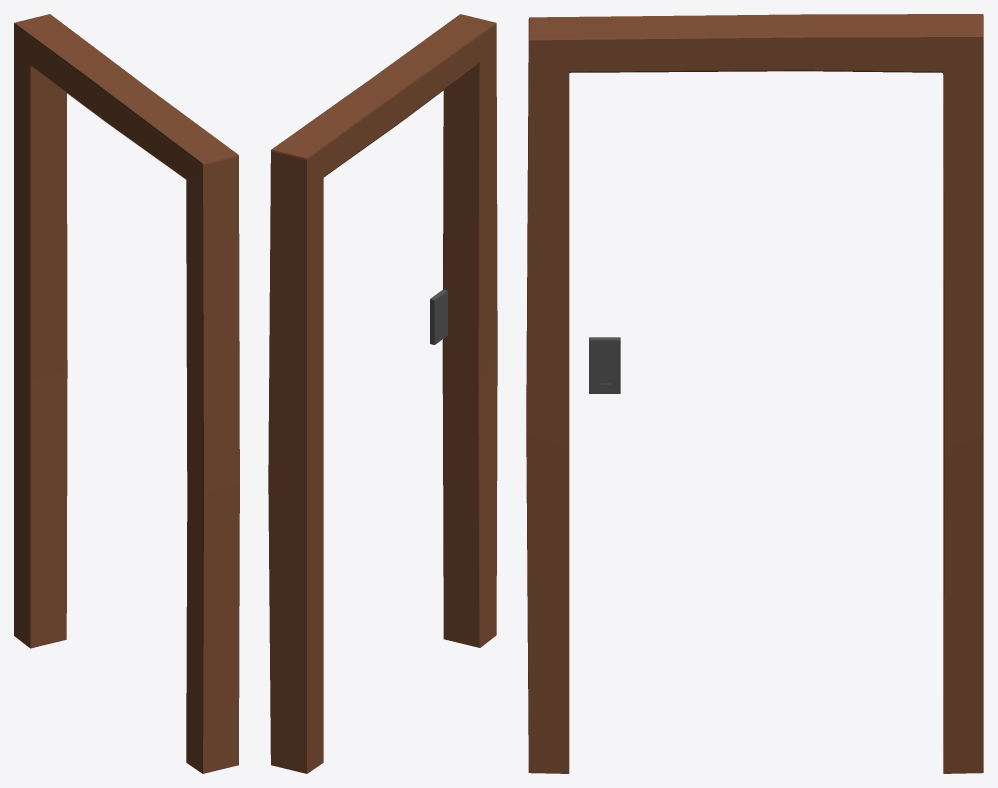
The model's file is JapanDoor.fbx.
3 renders of one model, left to right at view 1: azimuth 30°, elevation 25°; view 2: azimuth 150°, elevation 25°; view 3: azimuth 270°, elevation 25°, orthographic. The views are drawn at different scales.
Parts seen in each view (by area): view 1: Plane.007; view 2: Plane.007; view 3: Plane.007.
Part boxes in pixels (x1=…): Plane.007: x1=14, y1=14, x2=239, y2=773; Plane.007: x1=268, y1=14, x2=497, y2=773; Plane.007: x1=526, y1=14, x2=983, y2=773.
Bounding box in the file's own units: 15.75 × 238 × 133.
